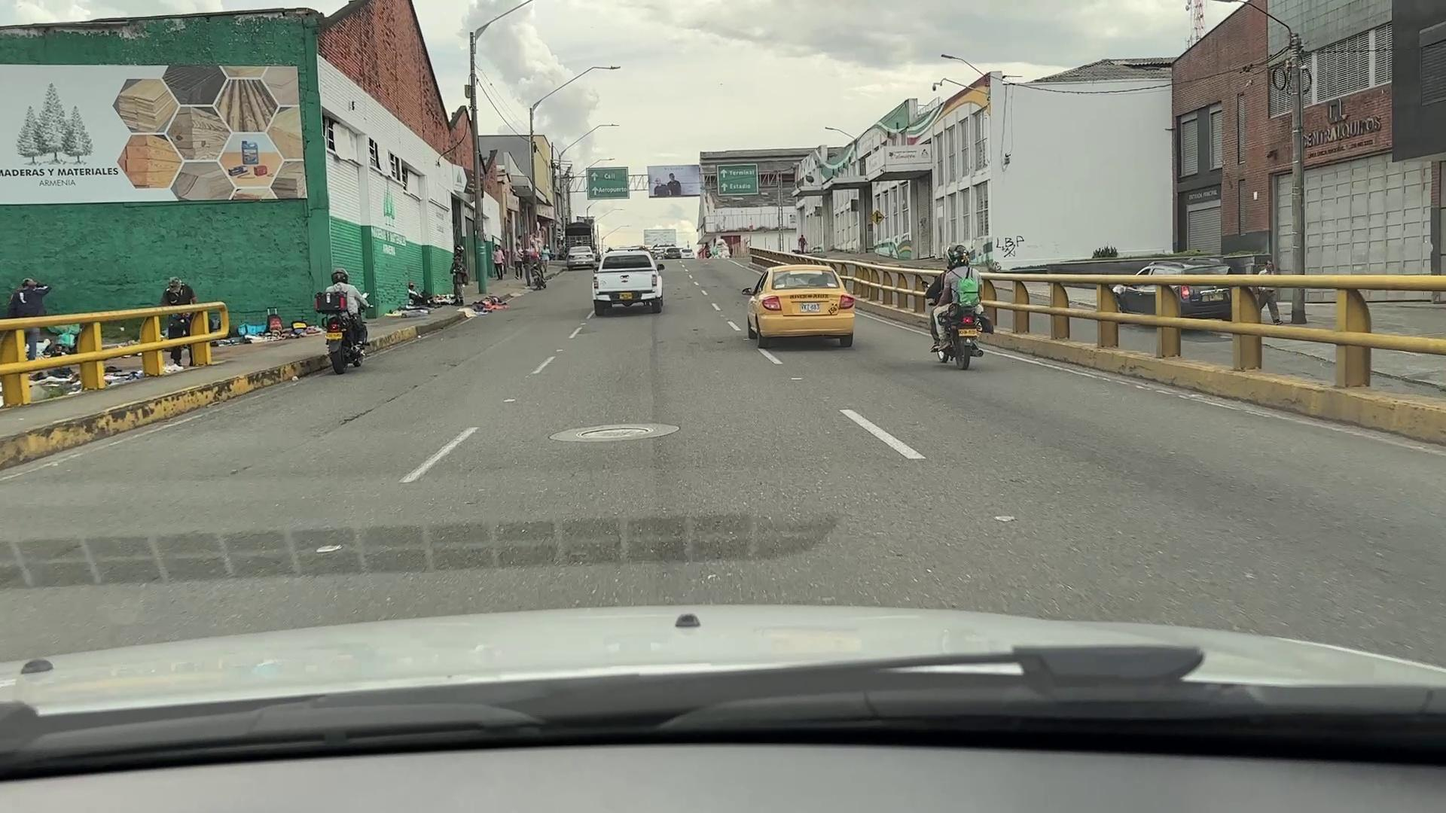registro: (576, 427, 653, 438)
